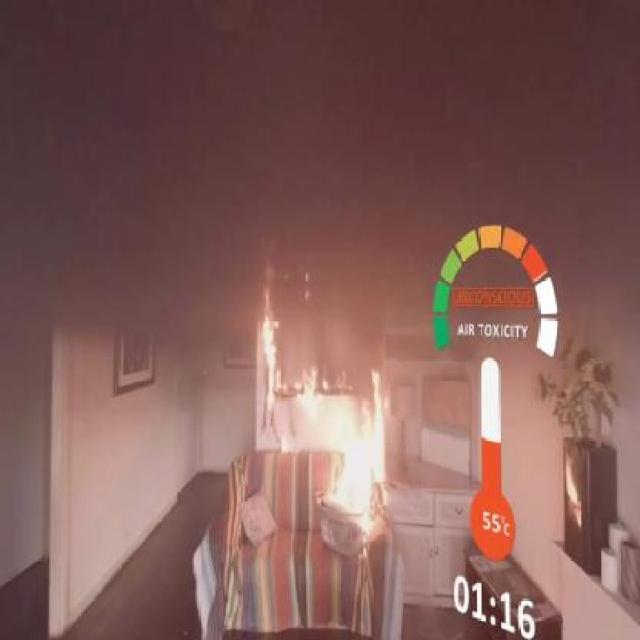fire: (310, 342, 388, 552), (250, 274, 324, 452)
smoke: (45, 36, 478, 347)
